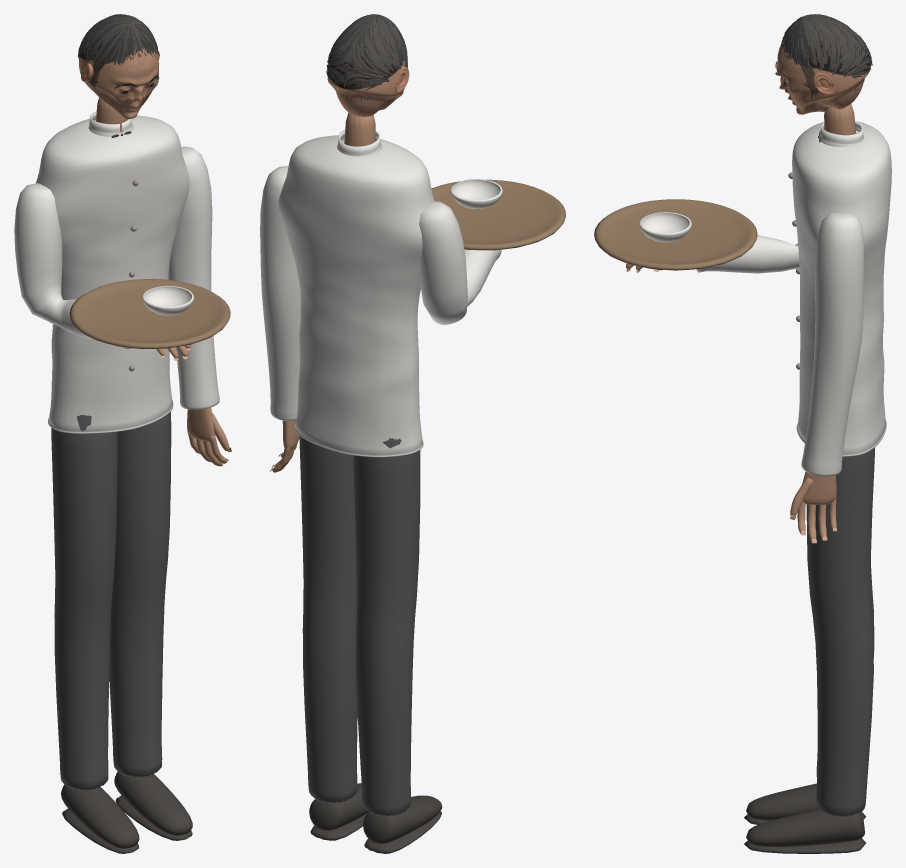
File: waiter.glb
3 views of the same model, side by side, from view 1: azimuth 30°, elevation 25°; view 2: azimuth 150°, elevation 25°; view 3: azimuth 270°, elevation 25° (orthographic).
Visible parts, largest first — view 1: Torso, LegL, LegR, TrayDisc, SleeveR, SleeveL, FootL, FootR, Head, HairCards, HandR, Bowl (+2 smaller); view 2: Torso, LegL, LegR, SleeveR, SleeveL, TrayDisc, HairCards, FootL, Head, FootR, Bowl, Neck (+2 smaller); view 3: LegR, Torso, SleeveR, TrayDisc, FootR, HairCards, Head, HandR, SleeveL, FootL, Bowl, Neck (+1 smaller).
Boxes of the visible parts, box(x1,y1,x2,y2) form: Torso: box(35, 115, 189, 433); LegL: box(51, 415, 117, 790); LegR: box(109, 411, 171, 777); TrayDisc: box(69, 279, 230, 348); SleeveR: box(168, 146, 219, 409); SleeveL: box(14, 183, 130, 348); FootL: box(61, 784, 139, 853); FootR: box(114, 771, 192, 840); Head: box(79, 26, 158, 119); HairCards: box(78, 14, 158, 91); HandR: box(187, 407, 229, 466); Bowl: box(142, 285, 193, 315); Torso: box(278, 135, 434, 457); LegL: box(353, 438, 420, 816); LegR: box(299, 436, 357, 803); SleeveR: box(260, 166, 300, 421); SleeveL: box(419, 201, 501, 324); TrayDisc: box(431, 179, 565, 250); HairCards: box(326, 14, 407, 101); FootL: box(363, 795, 442, 853); Head: box(327, 35, 407, 116); FootR: box(309, 783, 368, 840); Bowl: box(450, 179, 502, 208); Neck: box(344, 112, 375, 146); LegR: box(806, 447, 874, 816); Torso: box(792, 121, 891, 456); SleeveR: box(801, 213, 864, 476); TrayDisc: box(594, 199, 757, 270); FootR: box(744, 809, 865, 853); HairCards: box(781, 14, 872, 99); Head: box(776, 35, 870, 114); HandR: box(790, 472, 836, 541); SleeveL: box(696, 235, 799, 273); FootL: box(744, 783, 865, 824); Bowl: box(639, 212, 691, 242); Neck: box(824, 104, 856, 135).
Bounding box in the file's own units: 0.4867 × 1.77 × 0.5822.
16 materials, 2 textured.
